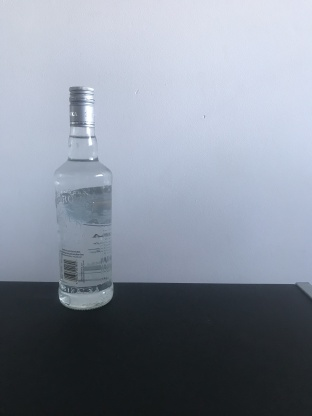nakretka: (67, 83, 96, 130)
